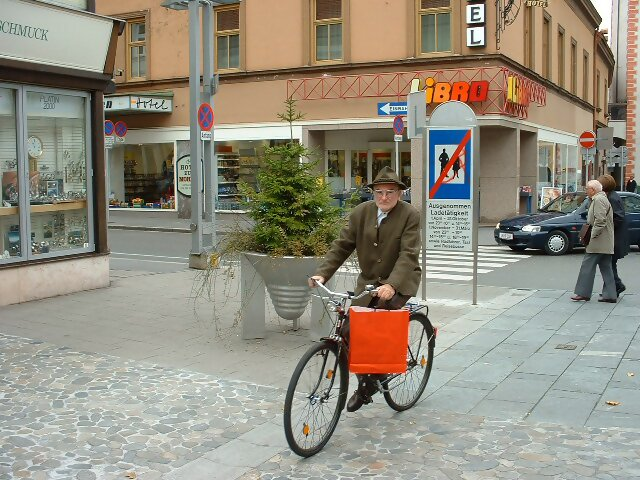person: (312, 162, 426, 409), (570, 178, 624, 307)
